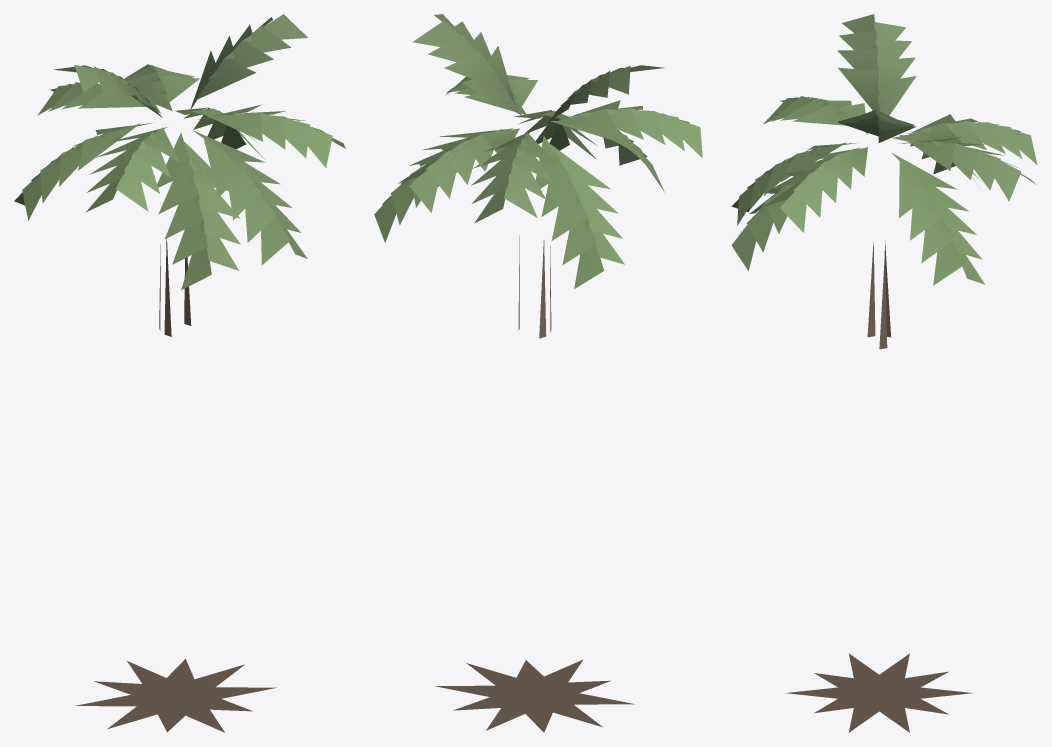
File: treefern.lod.glb
3 renders of one model, left to right at view 1: azimuth 30°, elevation 25°; view 2: azimuth 150°, elevation 25°; view 3: azimuth 270°, elevation 25°, orthographic. The views are drawn at different scales.
Visible parts, largest first — view 1: treefern; view 2: treefern; view 3: treefern.
Part boxes in pixels (box(x1,y1,x2,y2)): treefern: box(14, 14, 345, 732); treefern: box(374, 14, 702, 732); treefern: box(731, 14, 1037, 732).
Bounding box in the file's own units: 3.66 × 8.84 × 3.89.
